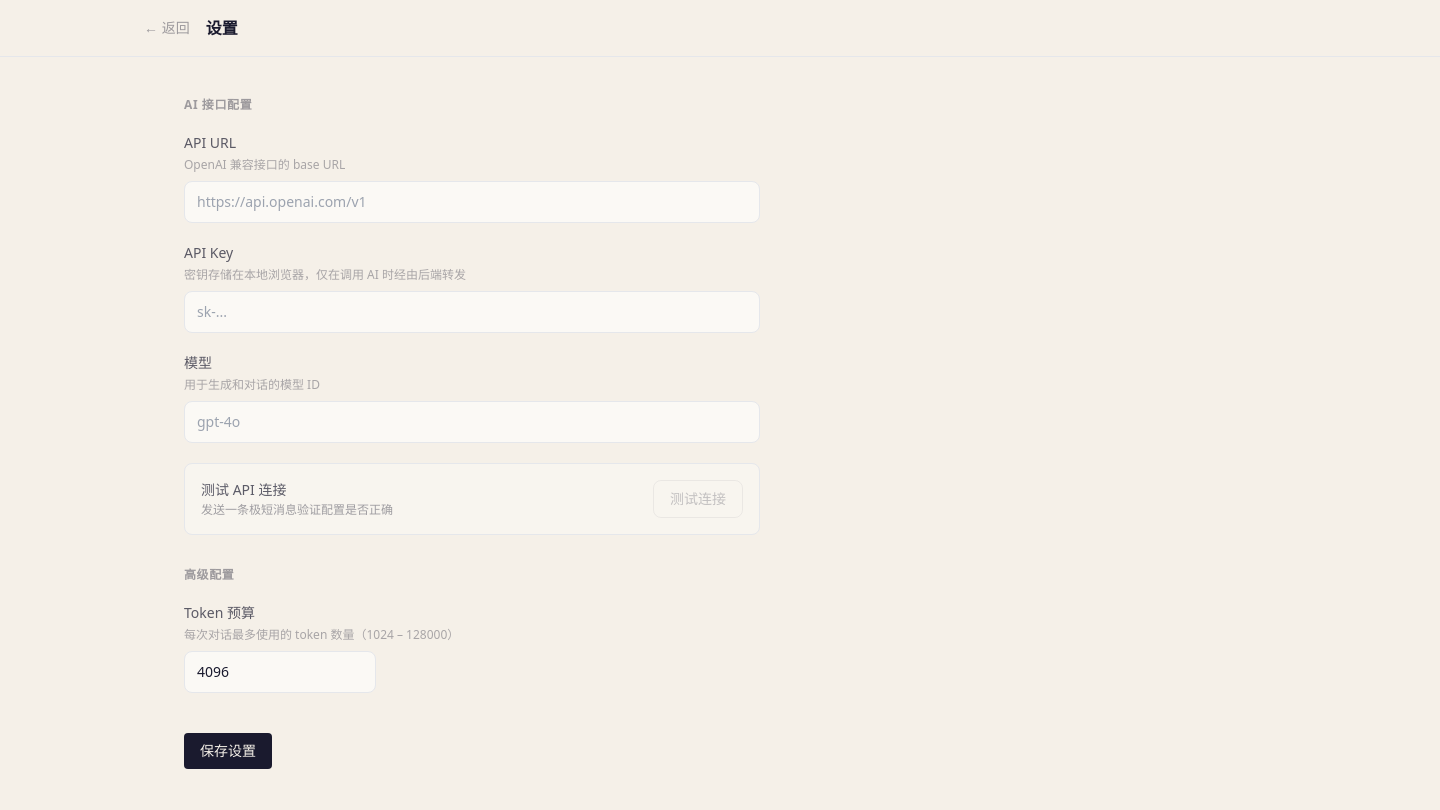
shows saved confirmation after submit
Click the button "保存设置" at (228, 751), box [184, 733, 272, 769]
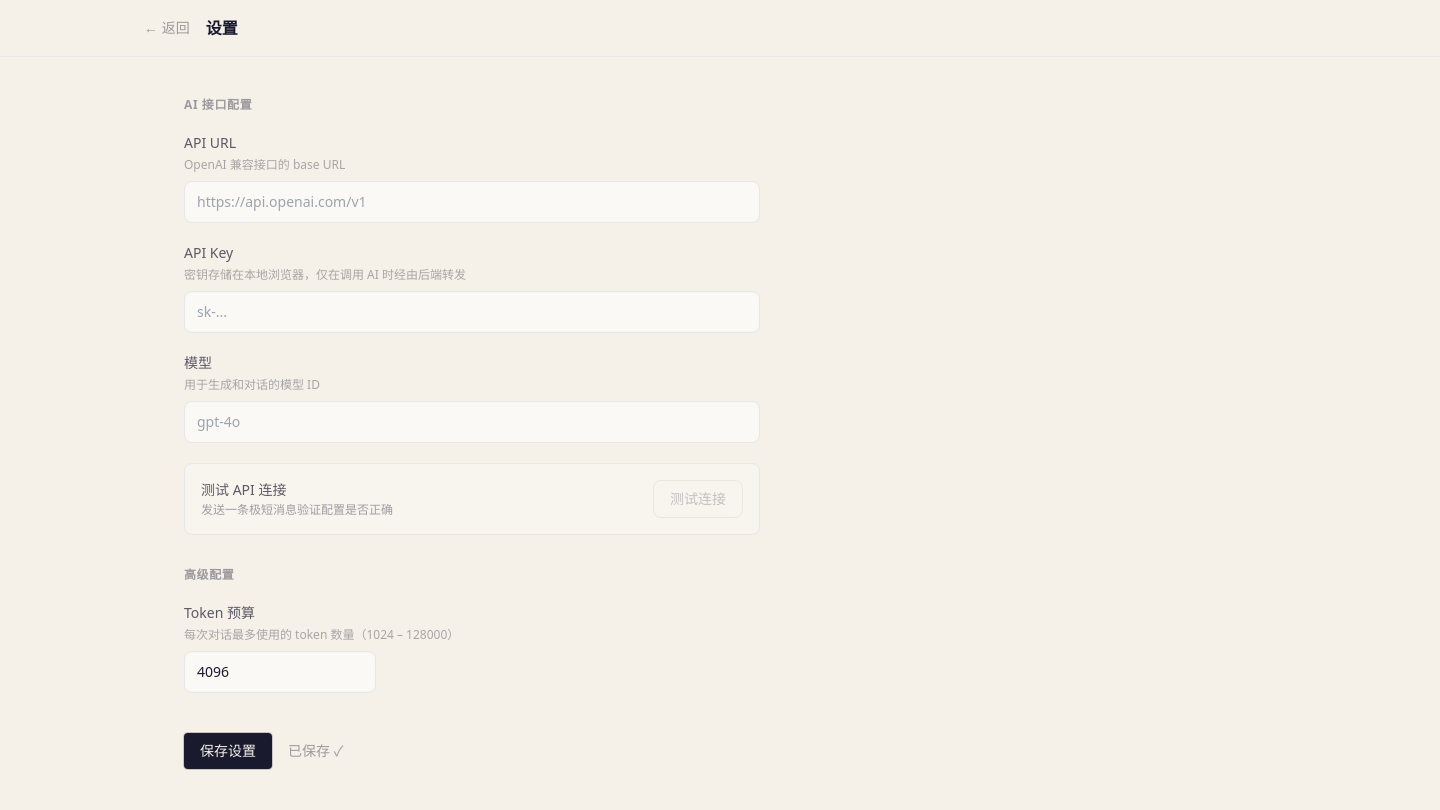
Check: the text "已保存 ✓" is shown, box [288, 741, 343, 761]
